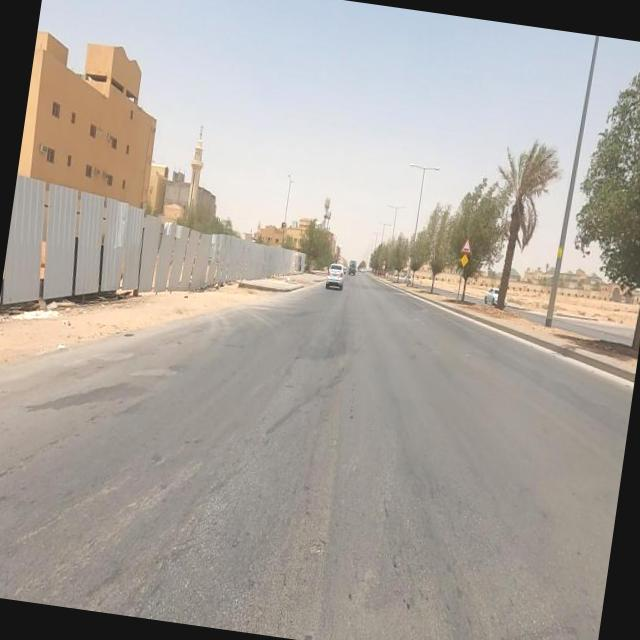debris: (0, 275, 100, 349), (68, 259, 144, 345), (36, 320, 90, 370)
